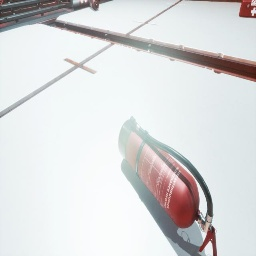FireExtinguisher ]: (118, 116, 217, 256)
FirstAidBox ,: (239, 0, 256, 18)
NitrogenTank ,: (72, 0, 90, 10), (88, 0, 99, 11)
